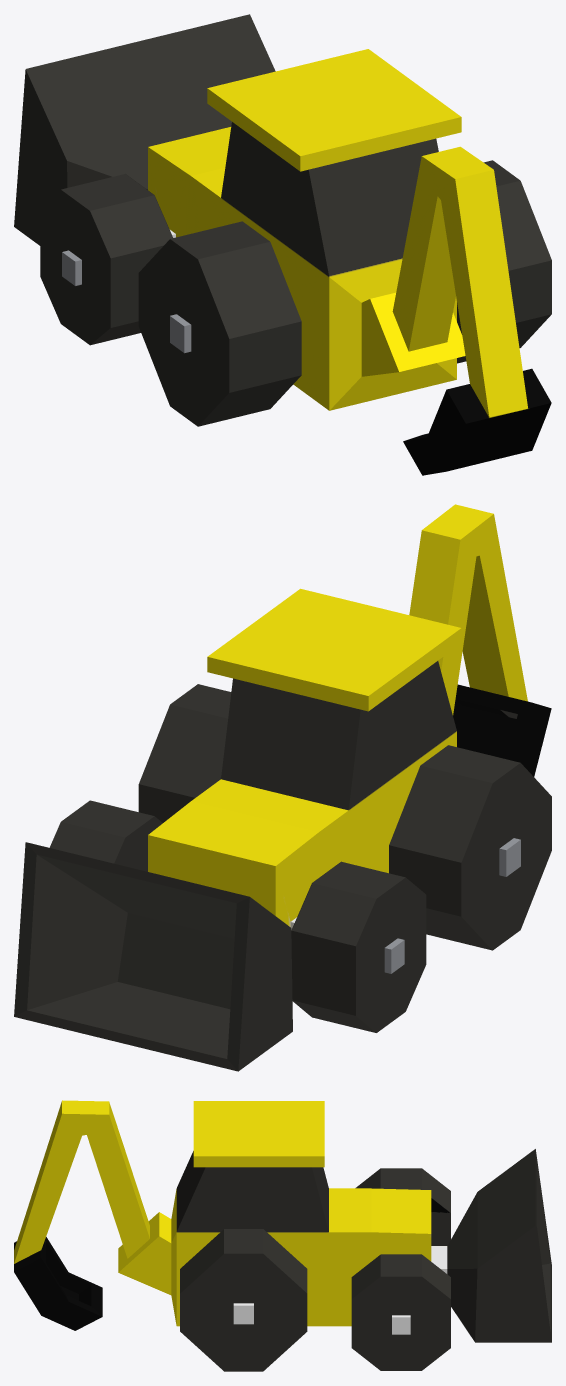
Rendered from BackHoe.glb.
3 renders of one model, top to bottom at view 1: azimuth 30°, elevation 25°; view 2: azimuth 150°, elevation 25°; view 3: azimuth 270°, elevation 25°, orthographic. The views are drawn at different scales.
Visible parts, largest first — view 1: BackHoe; view 2: BackHoe; view 3: BackHoe.
Part boxes in pixels (bbox=[...]): BackHoe: bbox=[14, 14, 551, 475]; BackHoe: bbox=[14, 504, 551, 1071]; BackHoe: bbox=[14, 1100, 551, 1371].
Size of what is drawn, in the model's own units: 3.48 by 2.95 by 6.85.
1 material, 1 textured.
